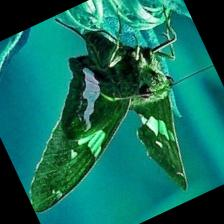butterfly: (28, 2, 188, 212)
